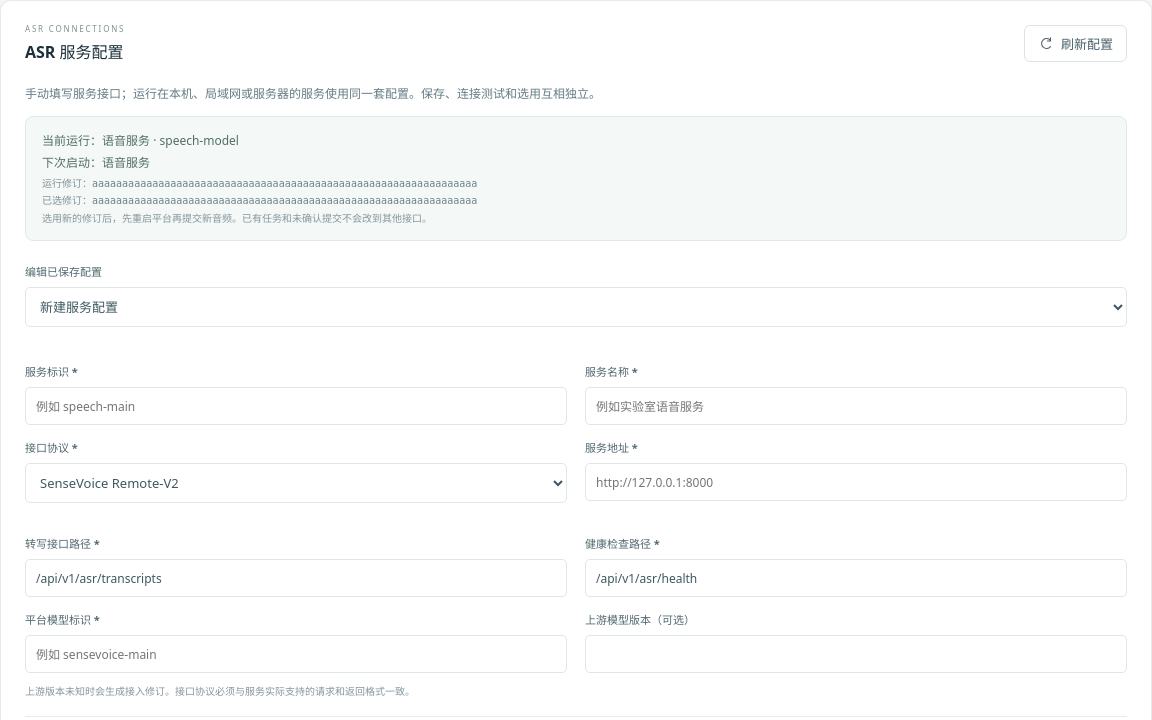
Test: manual ASR configuration panel › switches protocol defaults without inventing an upstream model or sending any request
Step 1. Select "OpenAI 兼容音频接口" in the dropdown labelled "接口协议" → [296, 483], box x1=25 y1=463 x2=567 y2=503
(page scrolled)
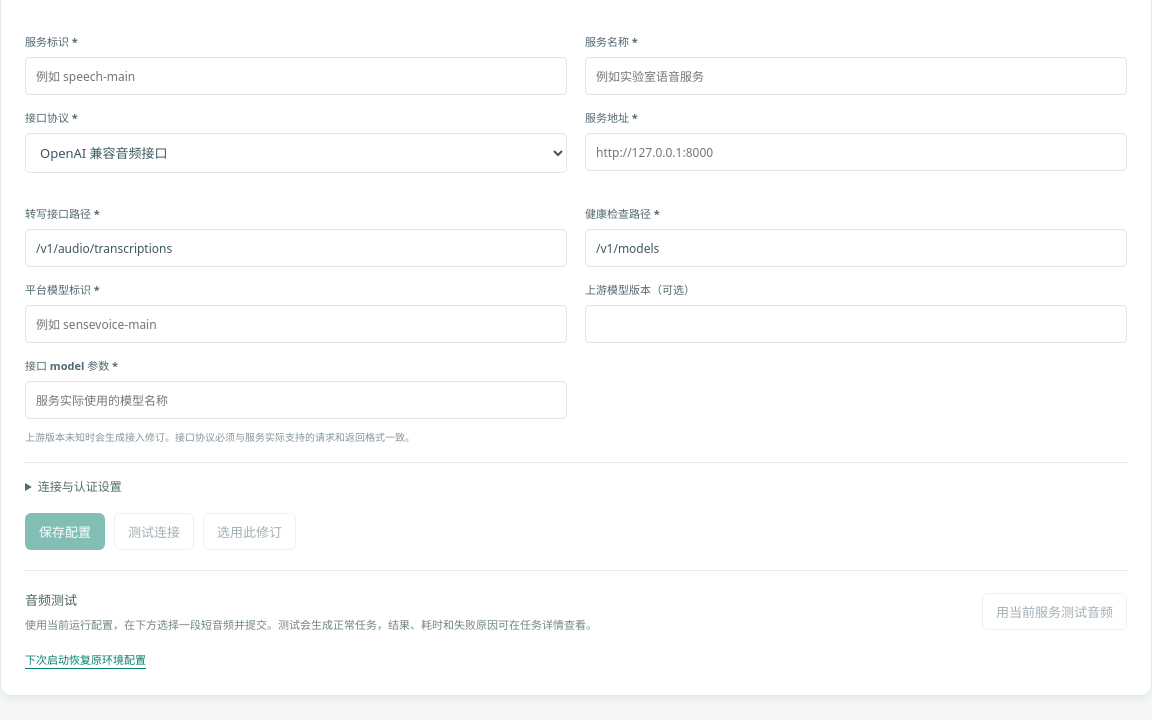
Now the field labelled "转写接口路径" holds "/v1/audio/transcriptions", box x1=25 y1=229 x2=567 y2=267
Now the field labelled "健康检查路径" holds "/v1/models", box x1=585 y1=229 x2=1127 y2=267
Now the field labelled "接口 model 参数" is empty, box x1=25 y1=381 x2=567 y2=419
